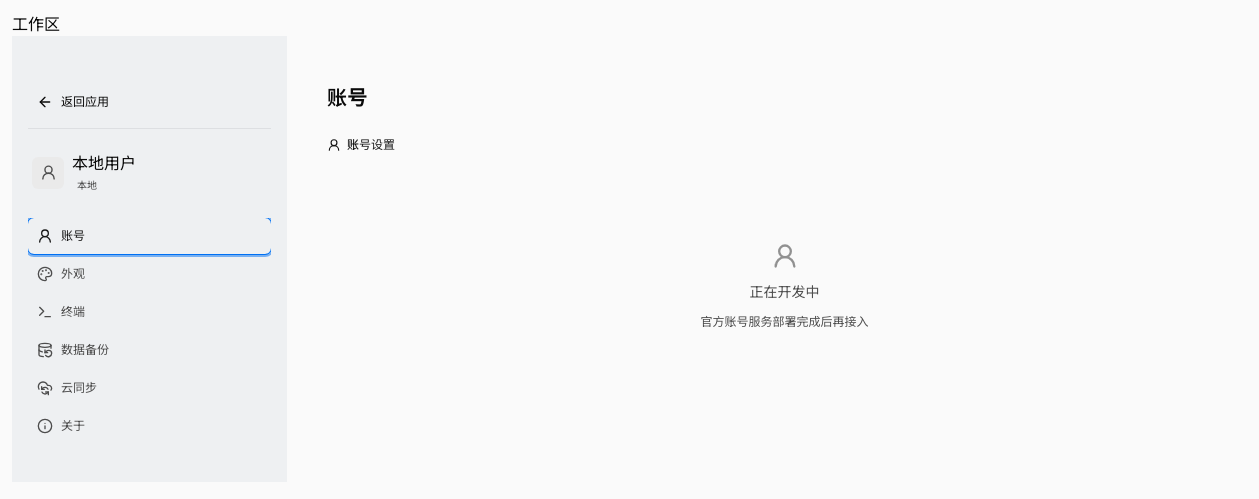
it: 账号设置从 account 入口打开后保持工作区和分类切换可用
Expected: the element with class "settings-page-profile" shows "本地用户", [72,153,136,173]
Press the mouse on the tab "账号" at (150, 236), box [28,218,271,254]
Expected: the panel shows "正在开发中", [750,283,820,300]
Expected: the text "工作区" is shown, [12,14,60,34]
Press the mouse on the tab "外观" at (150, 274), box [28,256,271,292]
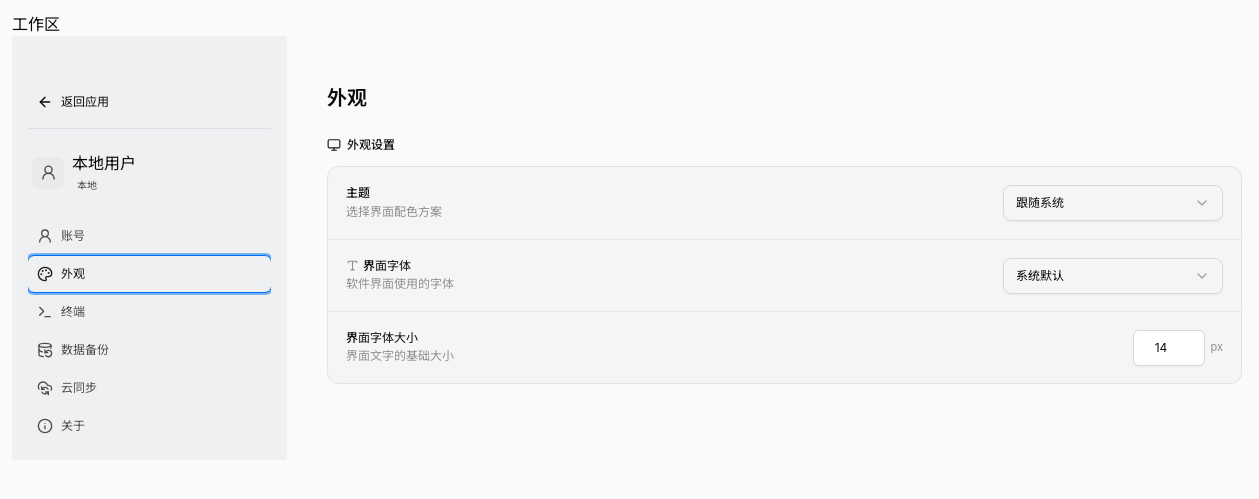
Result: the panel shows "外观设置" at [347,137,395,152]
Press the mouse on the tab "账号" at (150, 236), box [28,218,271,254]
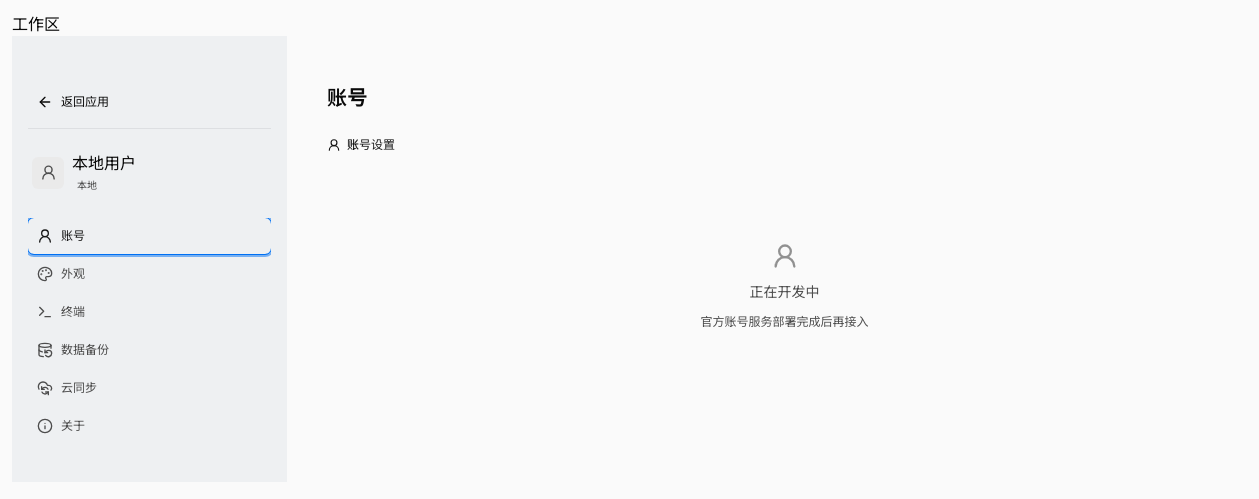
Expected: the text "工作区" is shown, [12,14,60,34]
Result: the panel shows "正在开发中" at [750,283,820,300]
Result: the number field is gone
Press the mouse on the tab "外观" at (150, 274), box [28,256,271,292]
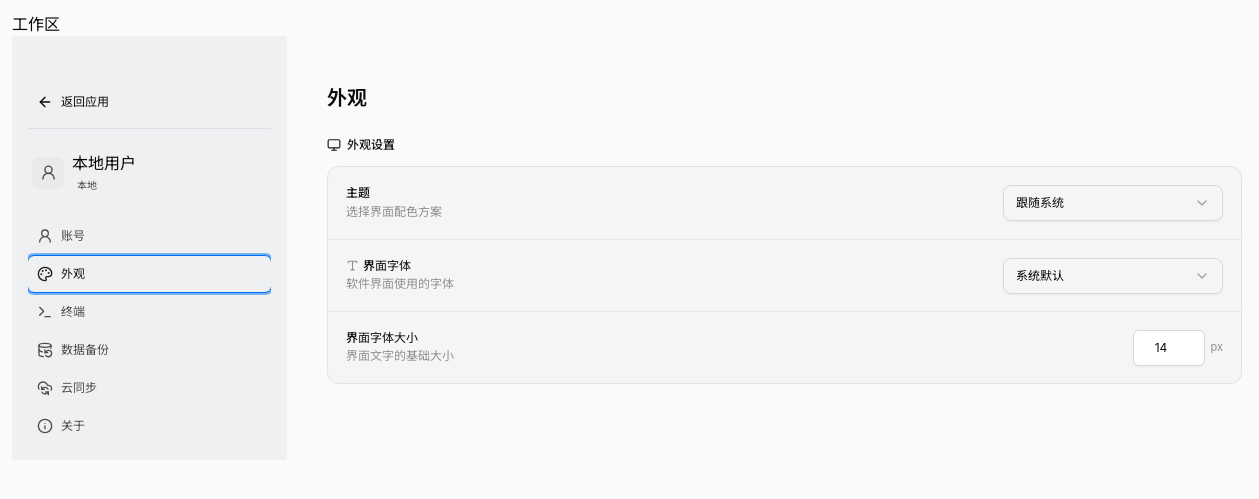
Result: the panel shows "外观设置" at [347,137,395,152]
